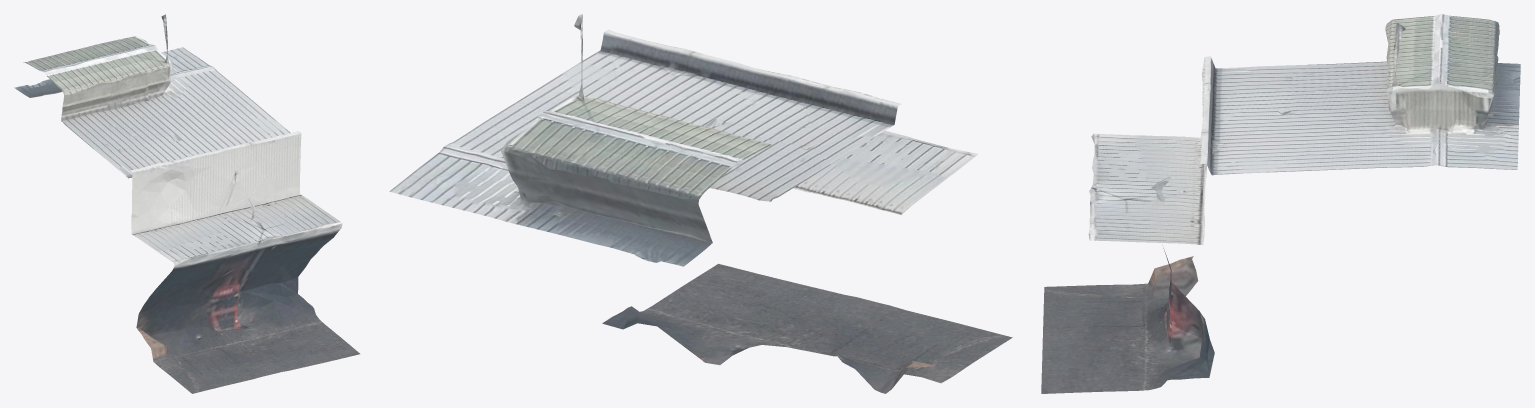
Rendered from Tile_+007_+005_L21_0uuuu030.glb.
3 renders of one model, left to right at view 1: azimuth 30°, elevation 25°; view 2: azimuth 150°, elevation 25°; view 3: azimuth 270°, elevation 25°, orthographic. The views are drawn at different scales.
Parts seen in each view (by area): view 1: rtc; view 2: rtc; view 3: rtc.
Part boxes in pixels (left/top/right/bottom): rtc: left=14, top=14, right=359, bottom=393; rtc: left=389, top=14, right=1012, bottom=393; rtc: left=1041, top=14, right=1520, bottom=393.
Size of the model in its own units: 13.44 by 19.1 by 24.88.
1 material, 1 textured.
